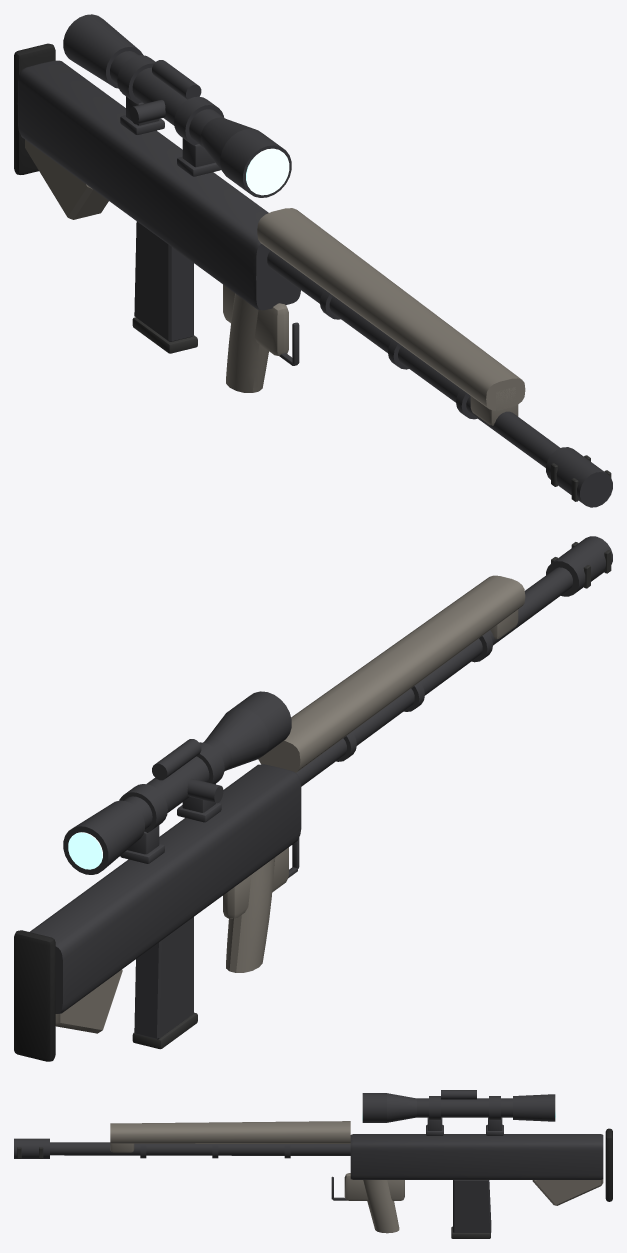
Rendered from dunkel.glb.
3 renders of one model, top to bottom at view 1: azimuth 30°, elevation 25°; view 2: azimuth 150°, elevation 25°; view 3: azimuth 270°, elevation 25°, orthographic. The views are drawn at different scales.
Visible parts, largest first — view 1: Body; view 2: Body; view 3: Body.
Boxes of the visible parts, box(x1,y1,x2,y2) form: Body: box(14, 14, 612, 507); Body: box(14, 536, 612, 1061); Body: box(14, 1090, 612, 1238).
Size of the model in its own units: 0.0677 by 0.266 by 0.996.
